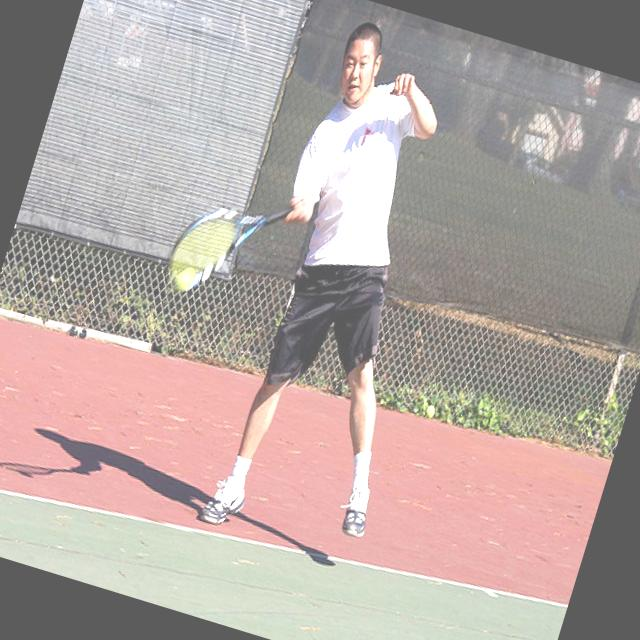Vehicle: (470, 111, 580, 188)
